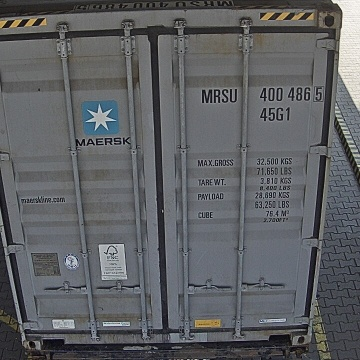serial_id: (202, 86, 324, 102)
